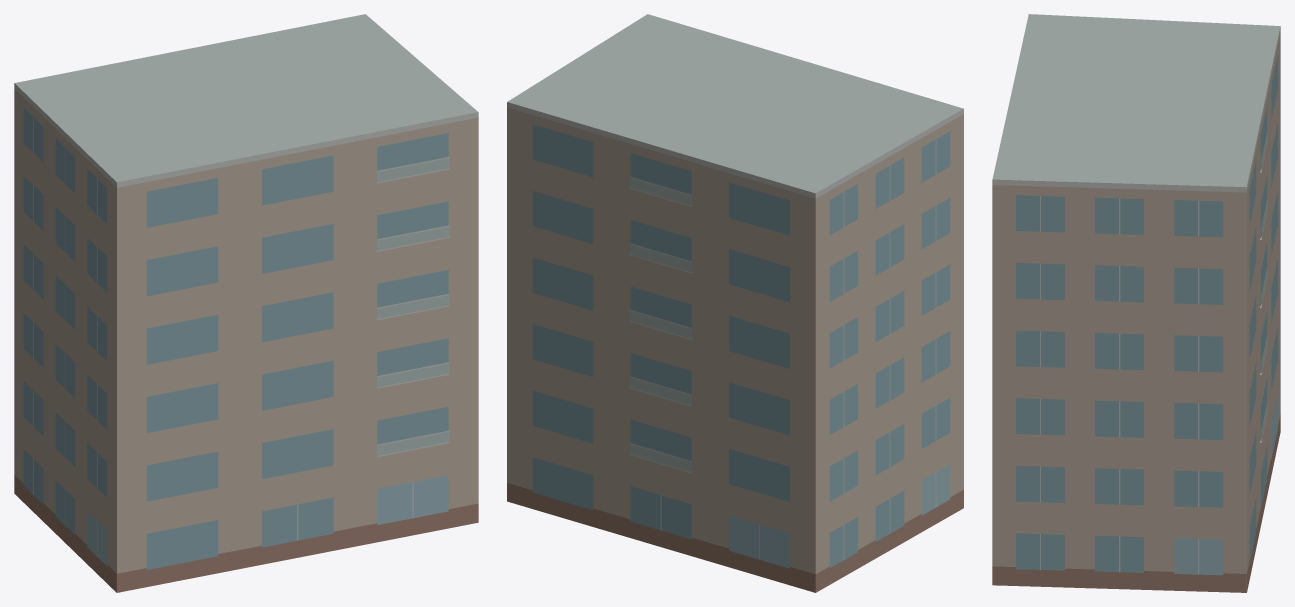
The model's file is survey-upis-32665683.glb.
The picture shows the model from 3 angles, left to right: view 1: azimuth 30°, elevation 25°; view 2: azimuth 150°, elevation 25°; view 3: azimuth 270°, elevation 25°; orthographic projection. The views are drawn at different scales.
Parts seen in each view (by area): view 1: survey-upis-32665683.tmp; view 2: survey-upis-32665683.tmp; view 3: survey-upis-32665683.tmp.
Part boxes in pixels (x1=…): survey-upis-32665683.tmp: x1=14, y1=14, x2=478, y2=592; survey-upis-32665683.tmp: x1=507, y1=14, x2=963, y2=592; survey-upis-32665683.tmp: x1=992, y1=14, x2=1280, y2=592.
Size of the model in its own units: 16.76 by 18.3 by 11.79.
